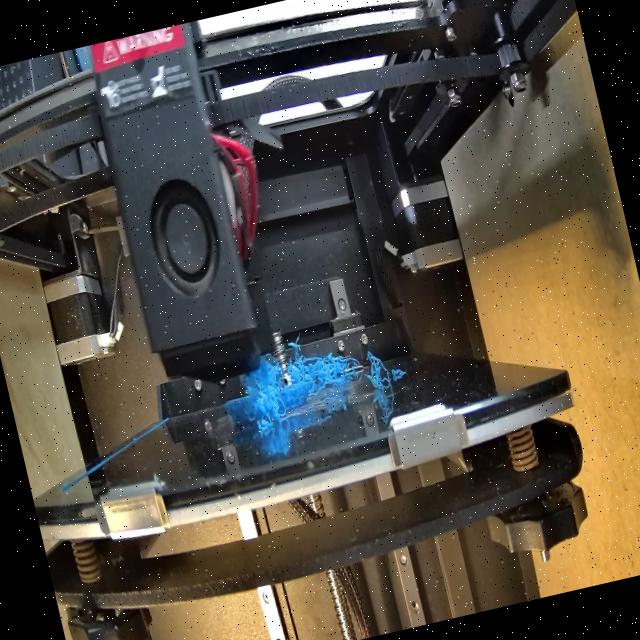spaghetti: (279, 336, 356, 393), (243, 363, 296, 438), (360, 350, 394, 399)
